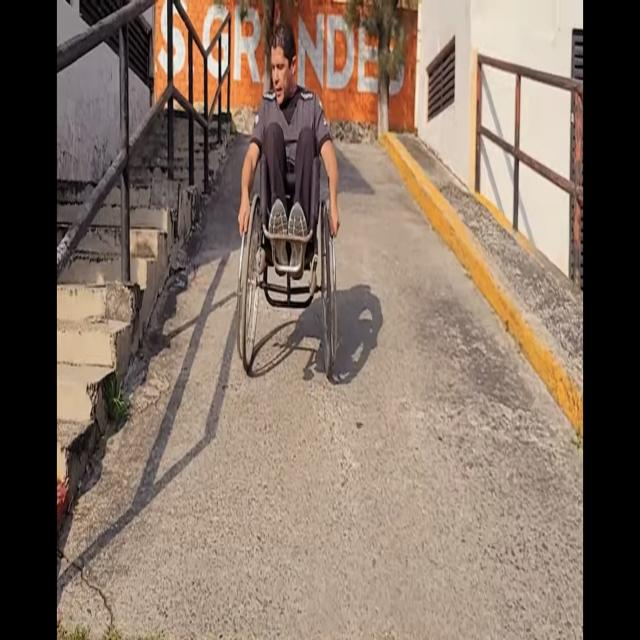wheelchairs: (235, 135, 341, 389)
